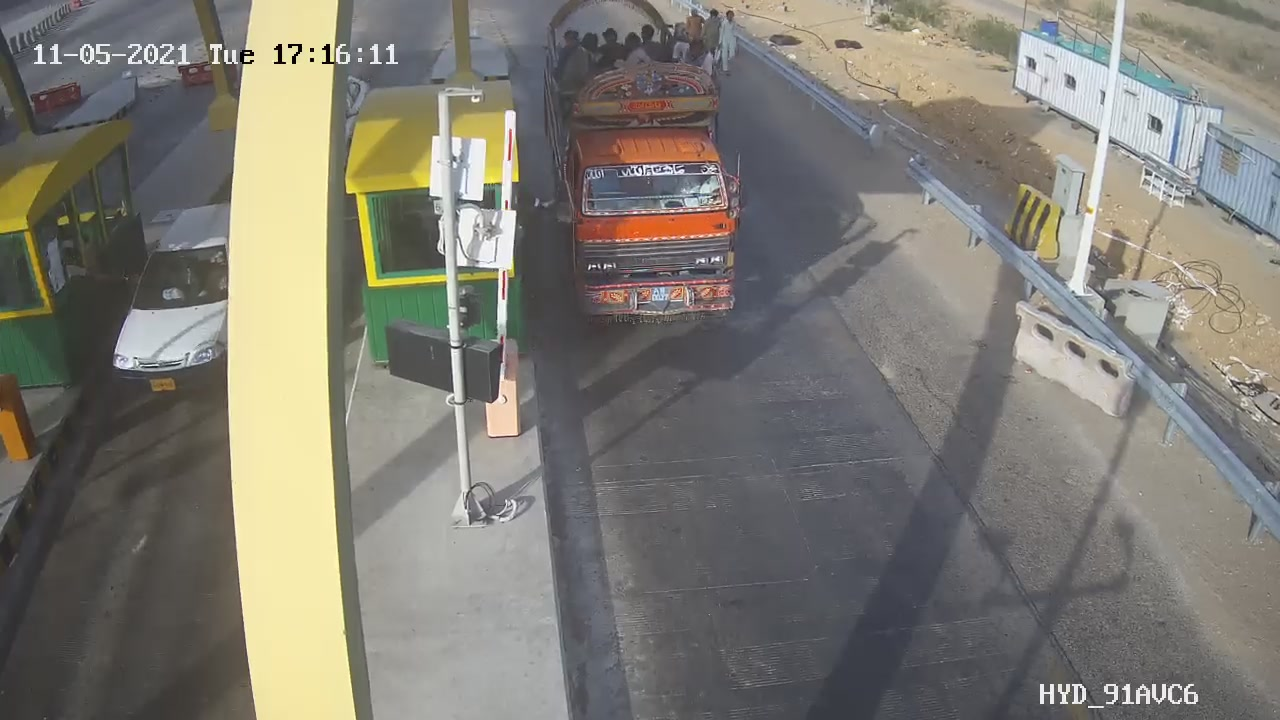F5: (526, 1, 774, 347)
